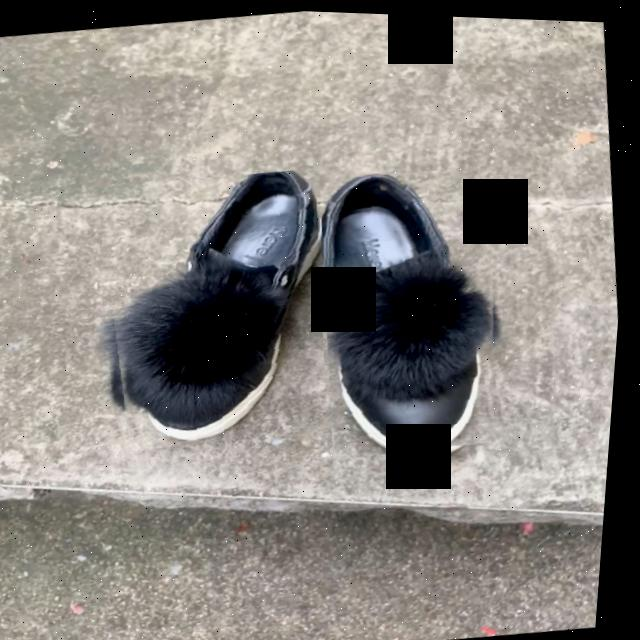shoe: (120, 168, 321, 443), (325, 171, 499, 447)
